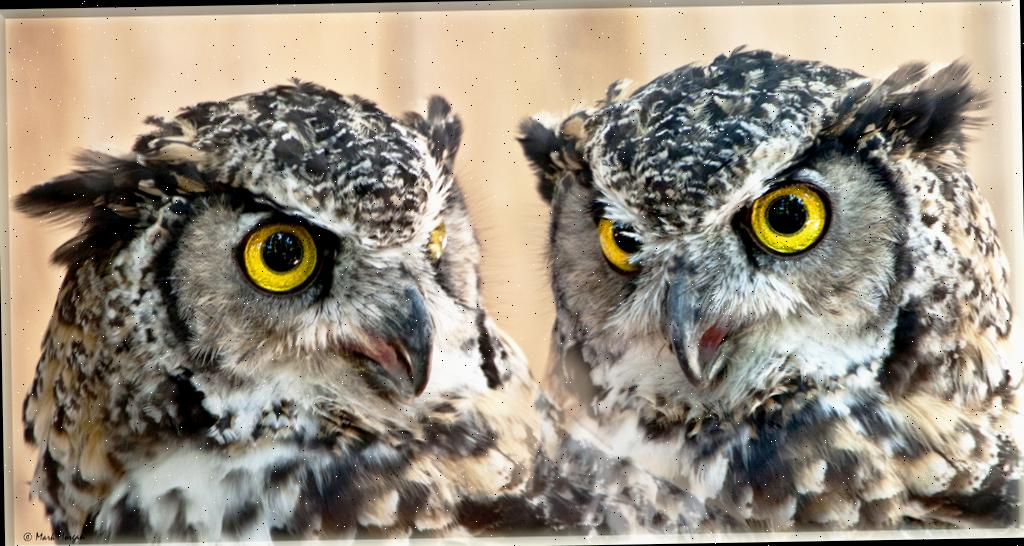Owl: (6, 59, 746, 546), (531, 35, 1024, 538)
